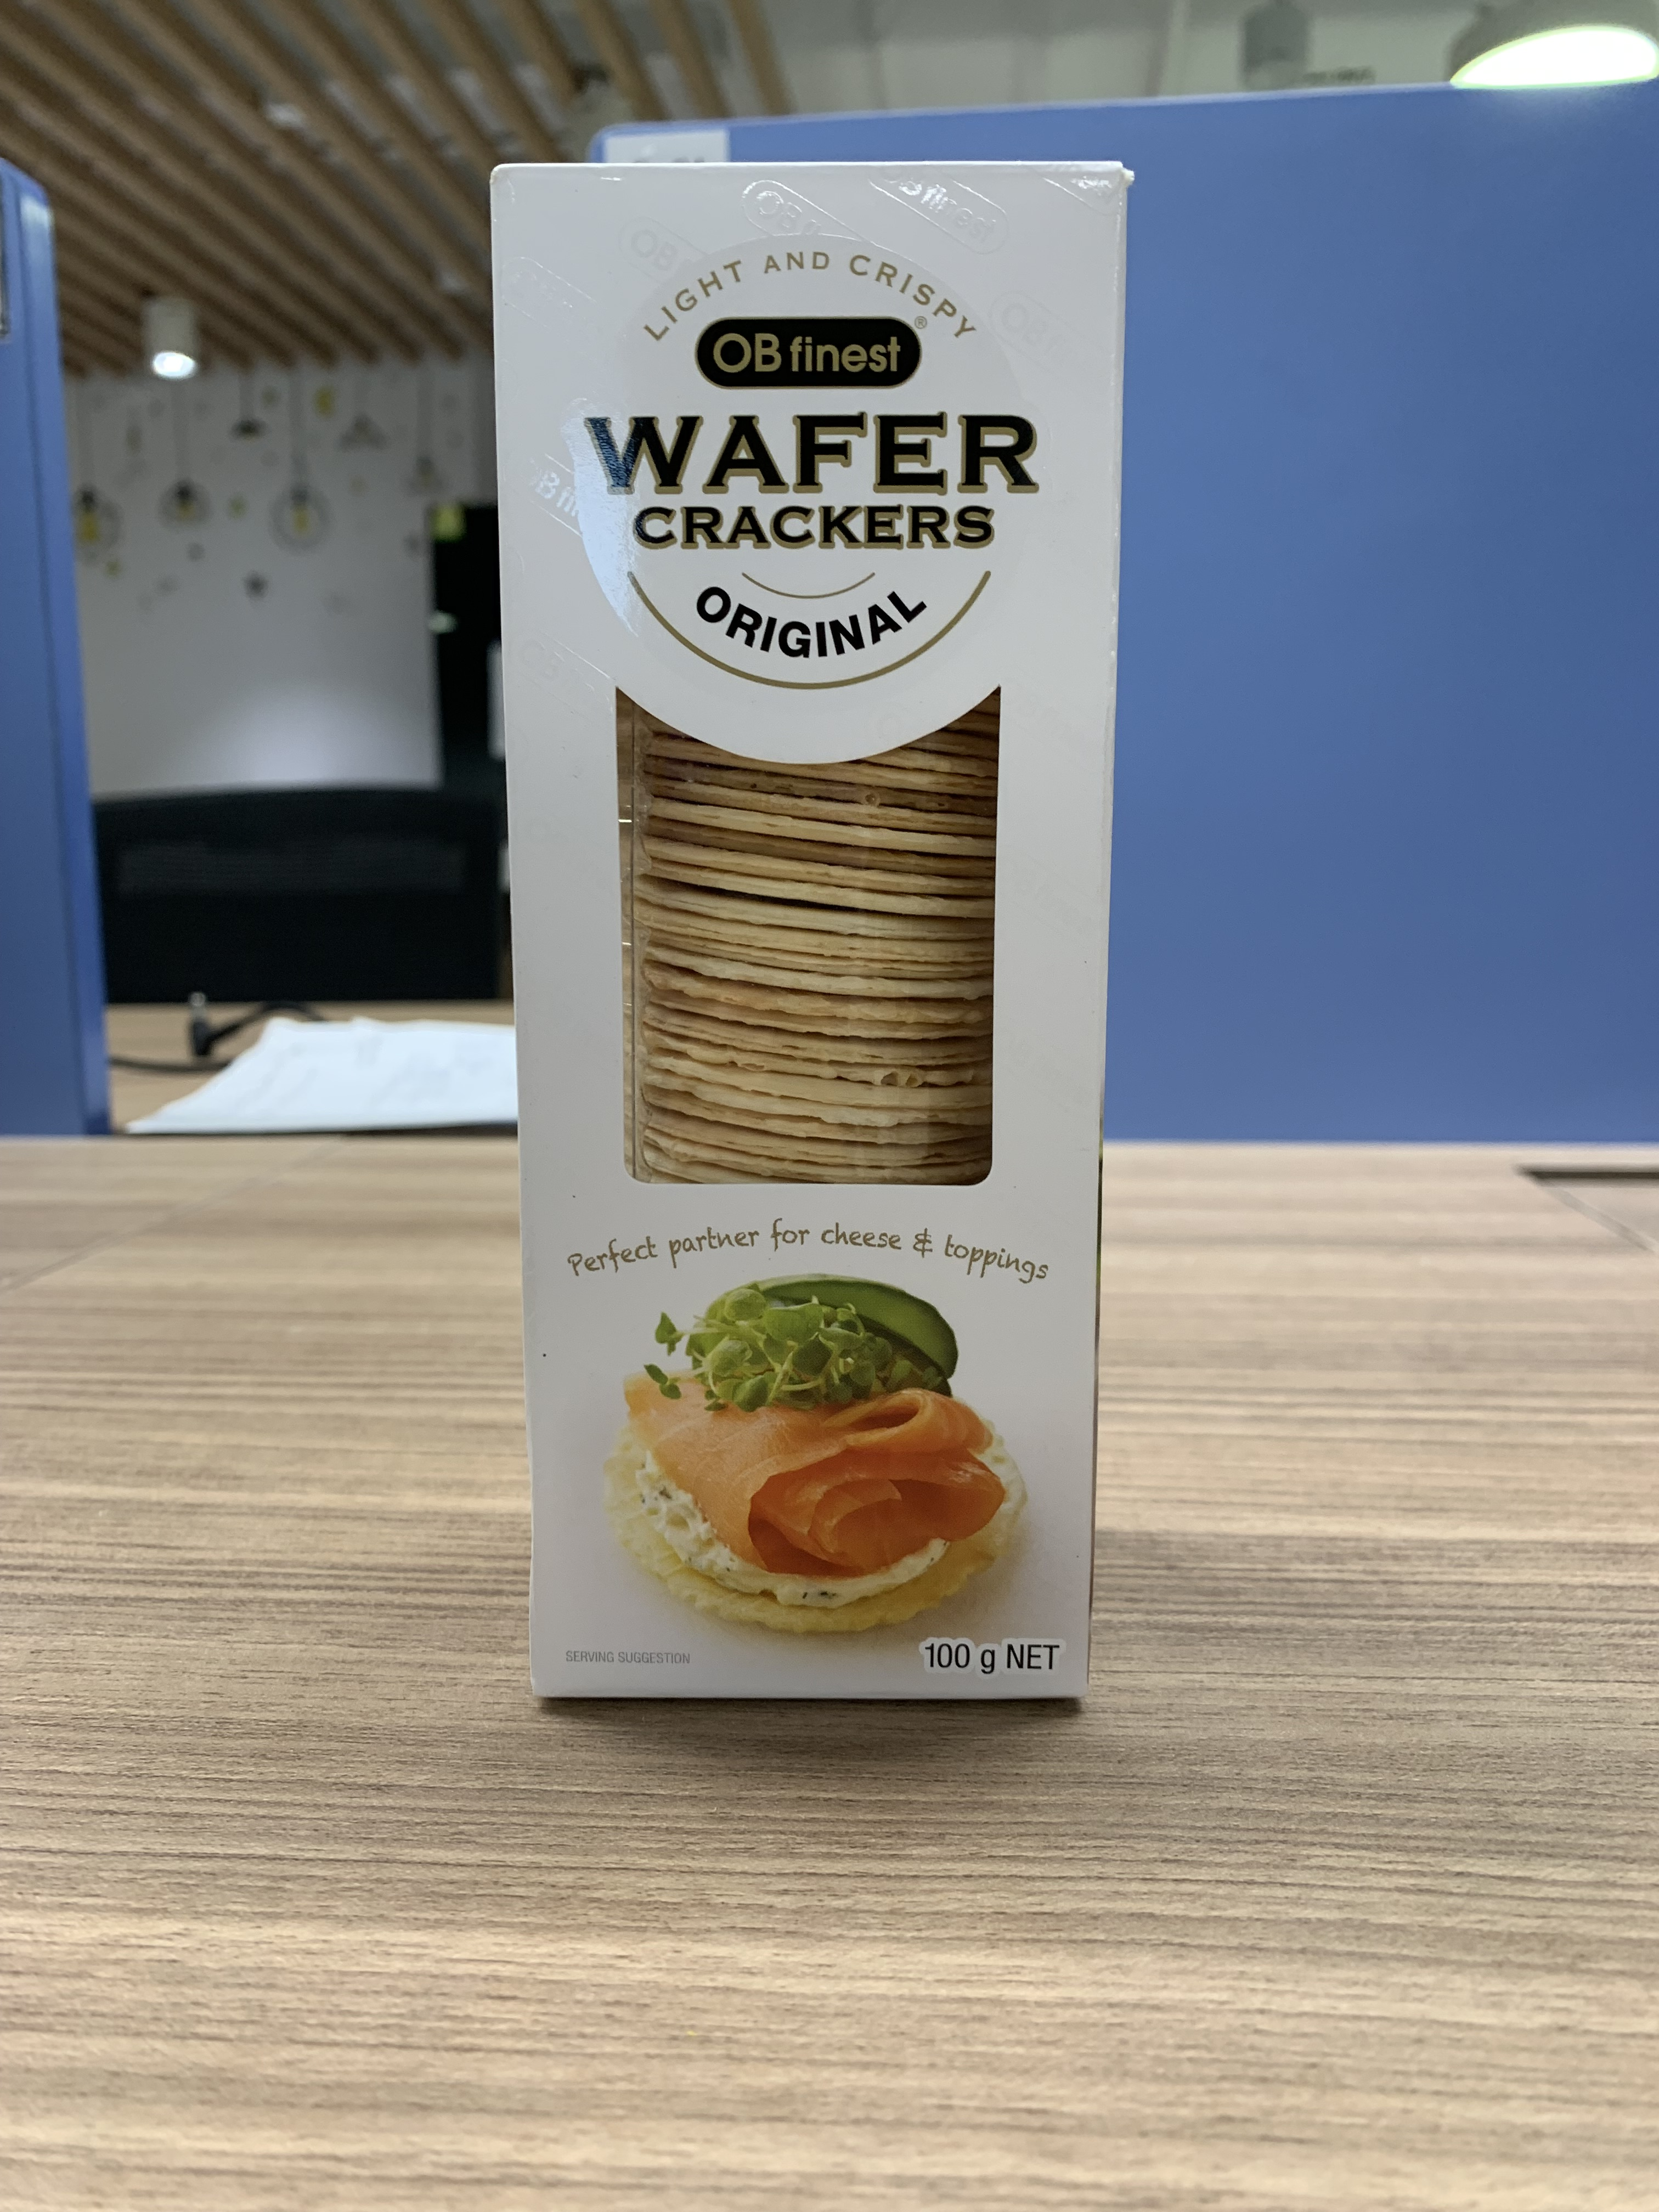crackers_100g-199g: (519, 197, 1080, 1698)
